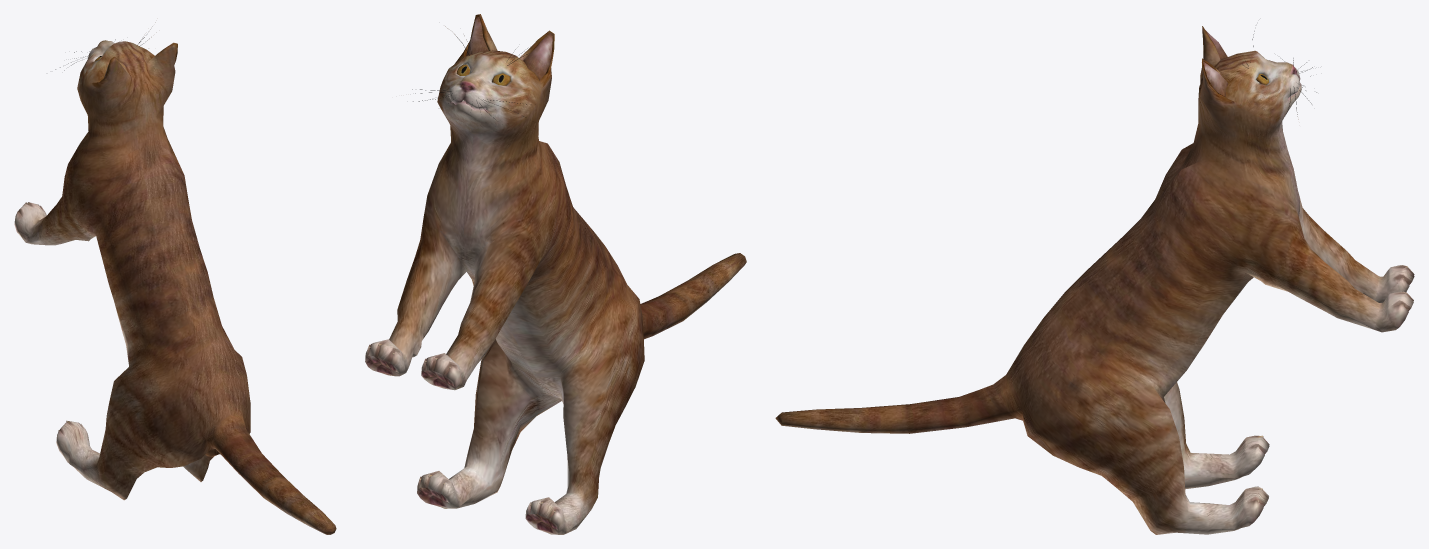
Rendered from Cat3.obj.
The picture shows the model from 3 angles, left to right: view 1: azimuth 30°, elevation 25°; view 2: azimuth 150°, elevation 25°; view 3: azimuth 270°, elevation 25°; orthographic projection. The views are drawn at different scales.
Visible parts, largest first — view 1: Mesh1 default_object G_7dd9_1368_3cc6_f1f5_1 Model; view 2: Mesh1 default_object G_7dd9_1368_3cc6_f1f5_1 Model, Mesh52 default_object G_7dd9_1368_3cc6_f1f5_1 Model, Mesh37 default_object G_7dd9_1368_3cc6_f1f5_1 Model; view 3: Mesh1 default_object G_7dd9_1368_3cc6_f1f5_1 Model.
Boxes of the visible parts, bbox=[...] form: Mesh1 default_object G_7dd9_1368_3cc6_f1f5_1 Model: bbox=[14, 40, 336, 534]; Mesh1 default_object G_7dd9_1368_3cc6_f1f5_1 Model: bbox=[365, 14, 746, 534]; Mesh52 default_object G_7dd9_1368_3cc6_f1f5_1 Model: bbox=[523, 33, 552, 80]; Mesh37 default_object G_7dd9_1368_3cc6_f1f5_1 Model: bbox=[466, 16, 488, 55]; Mesh1 default_object G_7dd9_1368_3cc6_f1f5_1 Model: bbox=[775, 26, 1414, 534].
Bounding box in the file's own units: 13.39 × 44.3 × 53.26.
1 material, 1 textured.
